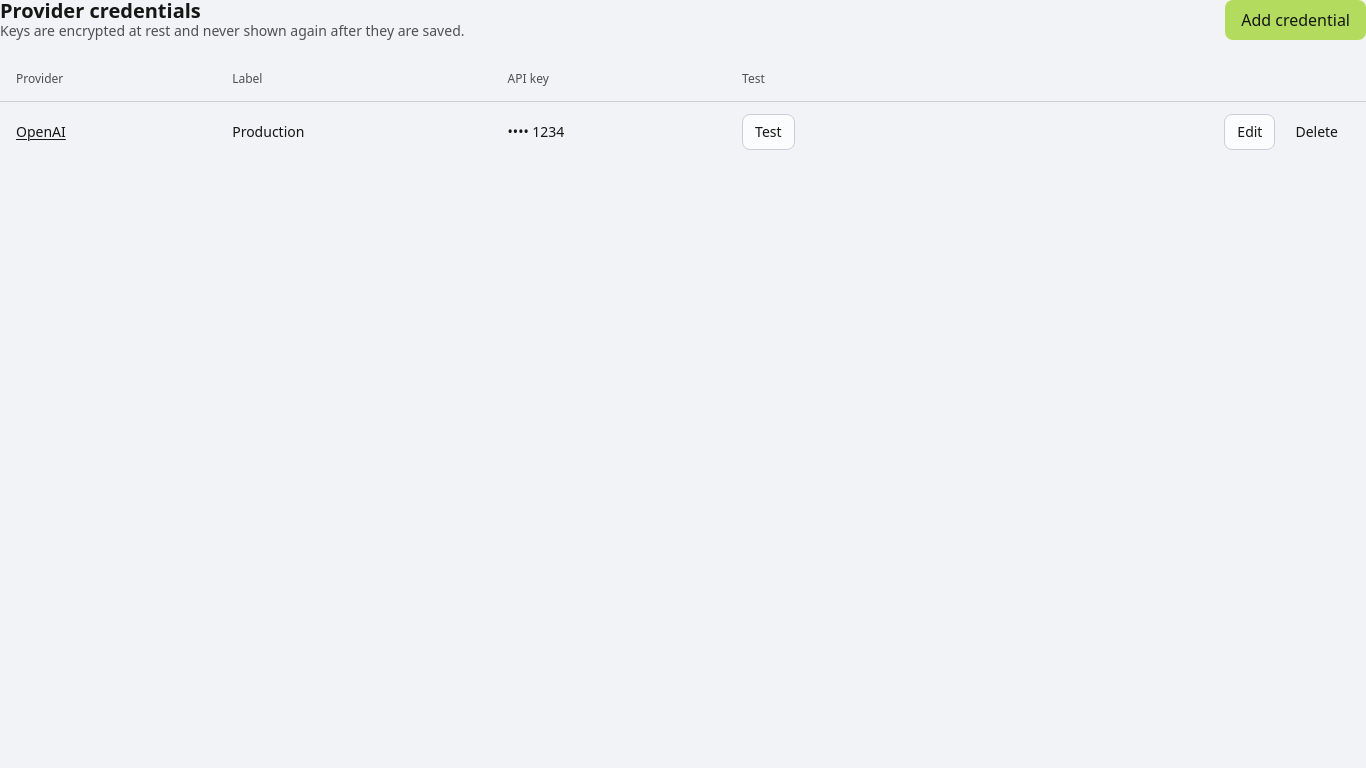
Scenario: CredentialList › explains when a credential cannot be deleted because a bot uses it
The width and height of the screenshot is (1366, 768).
Step 1. Click the button "Delete" → x=1317, y=132, box left=1283, top=114, right=1350, bottom=150
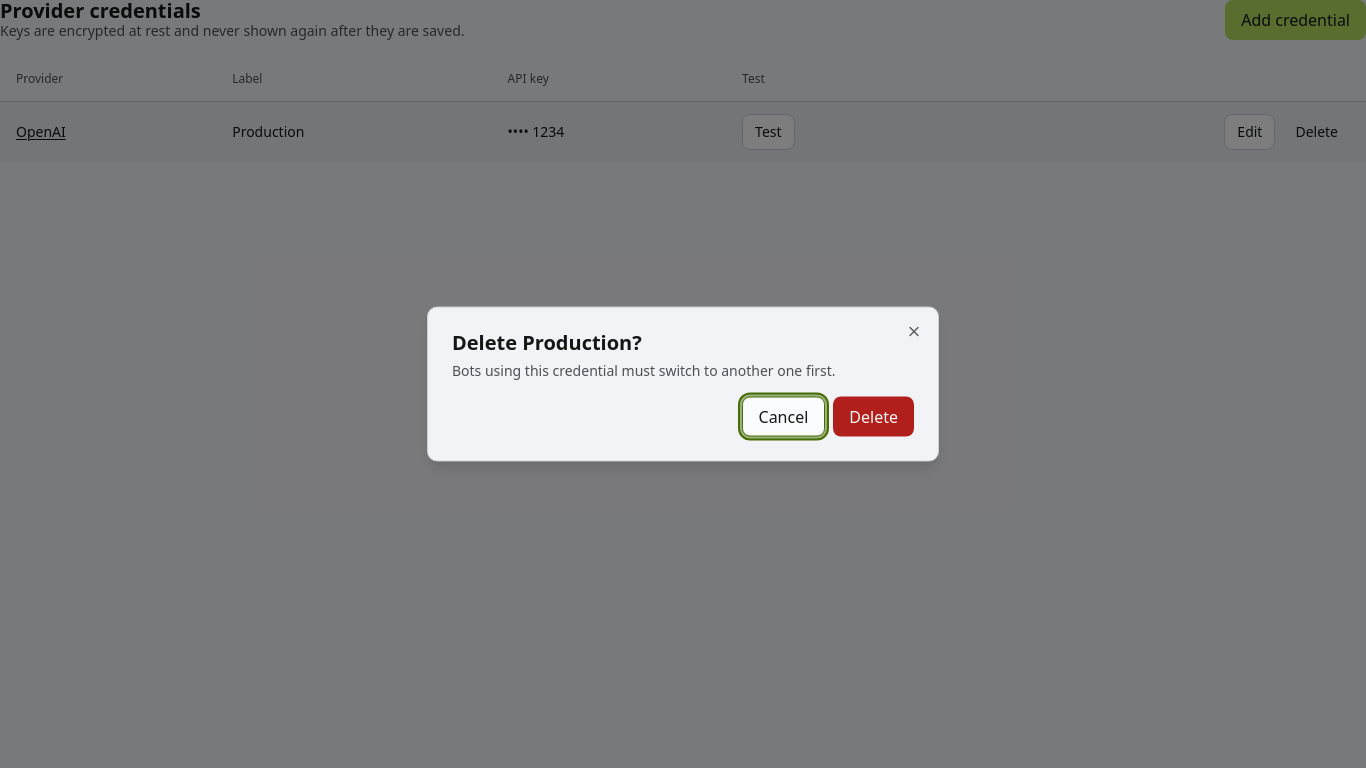
Step 2. Click the button "Delete" → x=874, y=416, box left=833, top=396, right=914, bottom=436
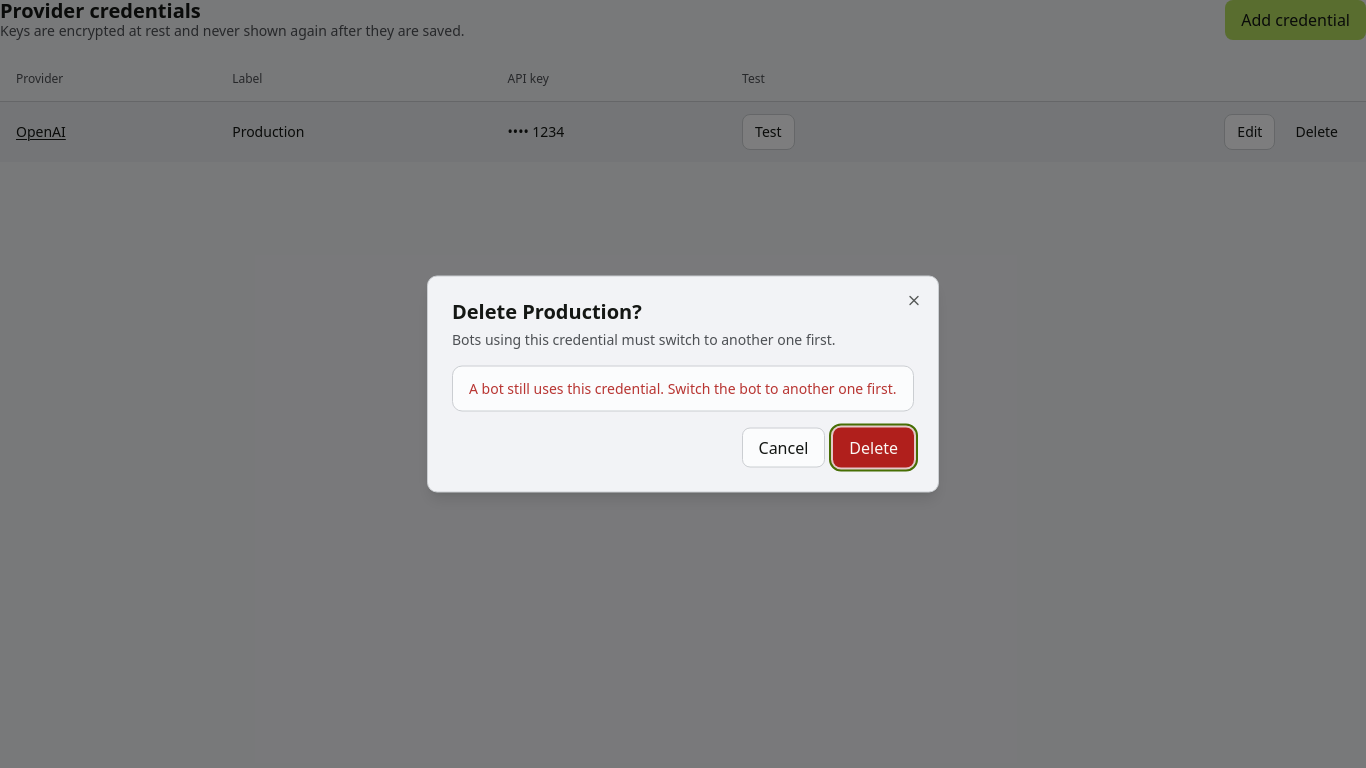
Result: the text "A bot still uses this credential. Switch the bot to another one first." is shown at left=469, top=378, right=897, bottom=398
